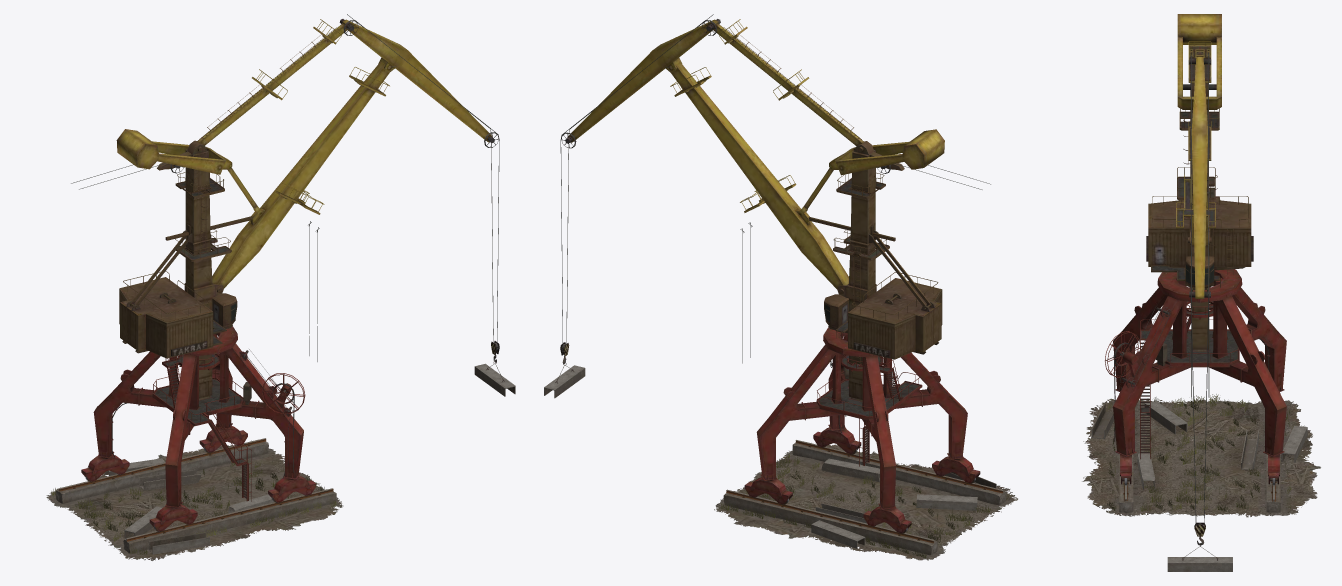
Rendered from crane-sokol.glb.
3 renders of one model, left to right at view 1: azimuth 30°, elevation 25°; view 2: azimuth 150°, elevation 25°; view 3: azimuth 270°, elevation 25°, orthographic. The views are drawn at different scales.
Visible parts, largest first — view 1: PortCrane; view 2: PortCrane; view 3: PortCrane.
Part boxes in pixels (x1,y1,x2,y2): PortCrane: [46, 14, 515, 560]; PortCrane: [544, 14, 1017, 560]; PortCrane: [1082, 14, 1320, 571].
Size of the model in its own units: 42.95 by 42.3 by 19.72.
Materials: 3 (3 with a texture image).
